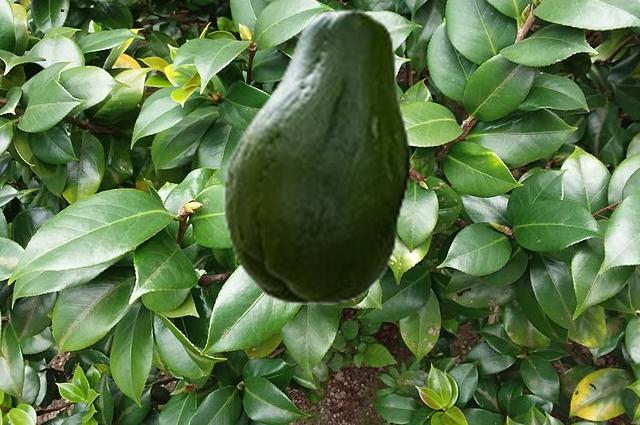sayote: (223, 8, 410, 303)
